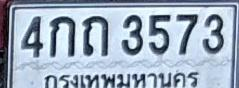3: (202, 13, 224, 54), (121, 14, 143, 55)
4: (21, 15, 43, 57)
5: (148, 14, 170, 55)
7: (176, 13, 198, 55)
A01: (49, 15, 75, 57)
A22: (82, 15, 109, 56)
BKK: (41, 70, 201, 88)
